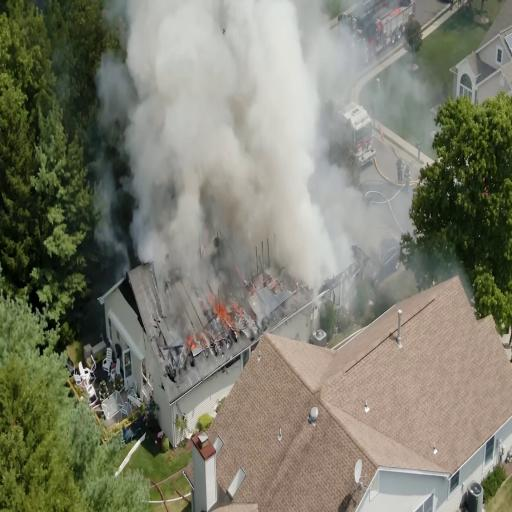smoke: (212, 0, 335, 275), (134, 0, 236, 238)
